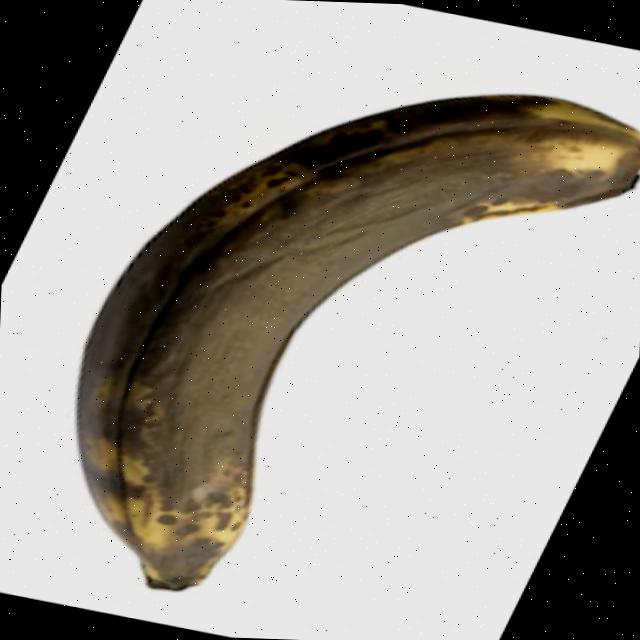Rotten: (70, 78, 640, 605)
